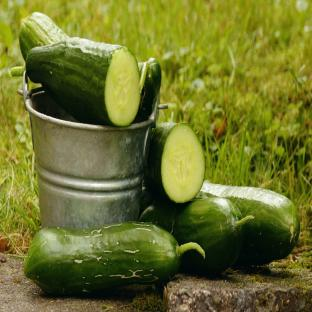Cucumber: (25, 222, 204, 293), (26, 38, 140, 126), (197, 181, 299, 266), (140, 198, 253, 274), (144, 123, 206, 203), (20, 12, 67, 60), (135, 58, 161, 122)
